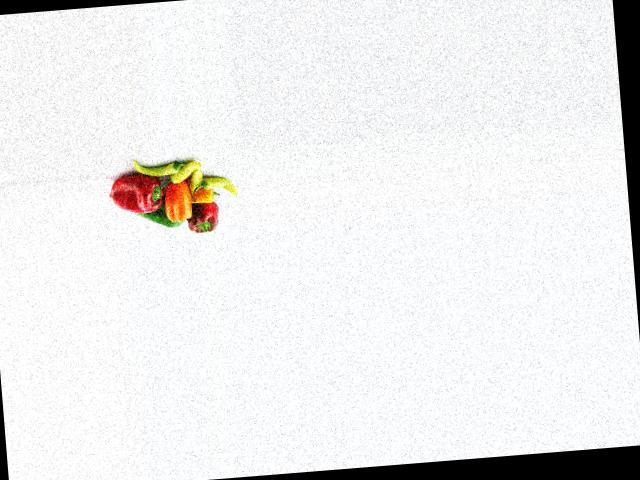bell_pepper: (128, 156, 188, 177)
